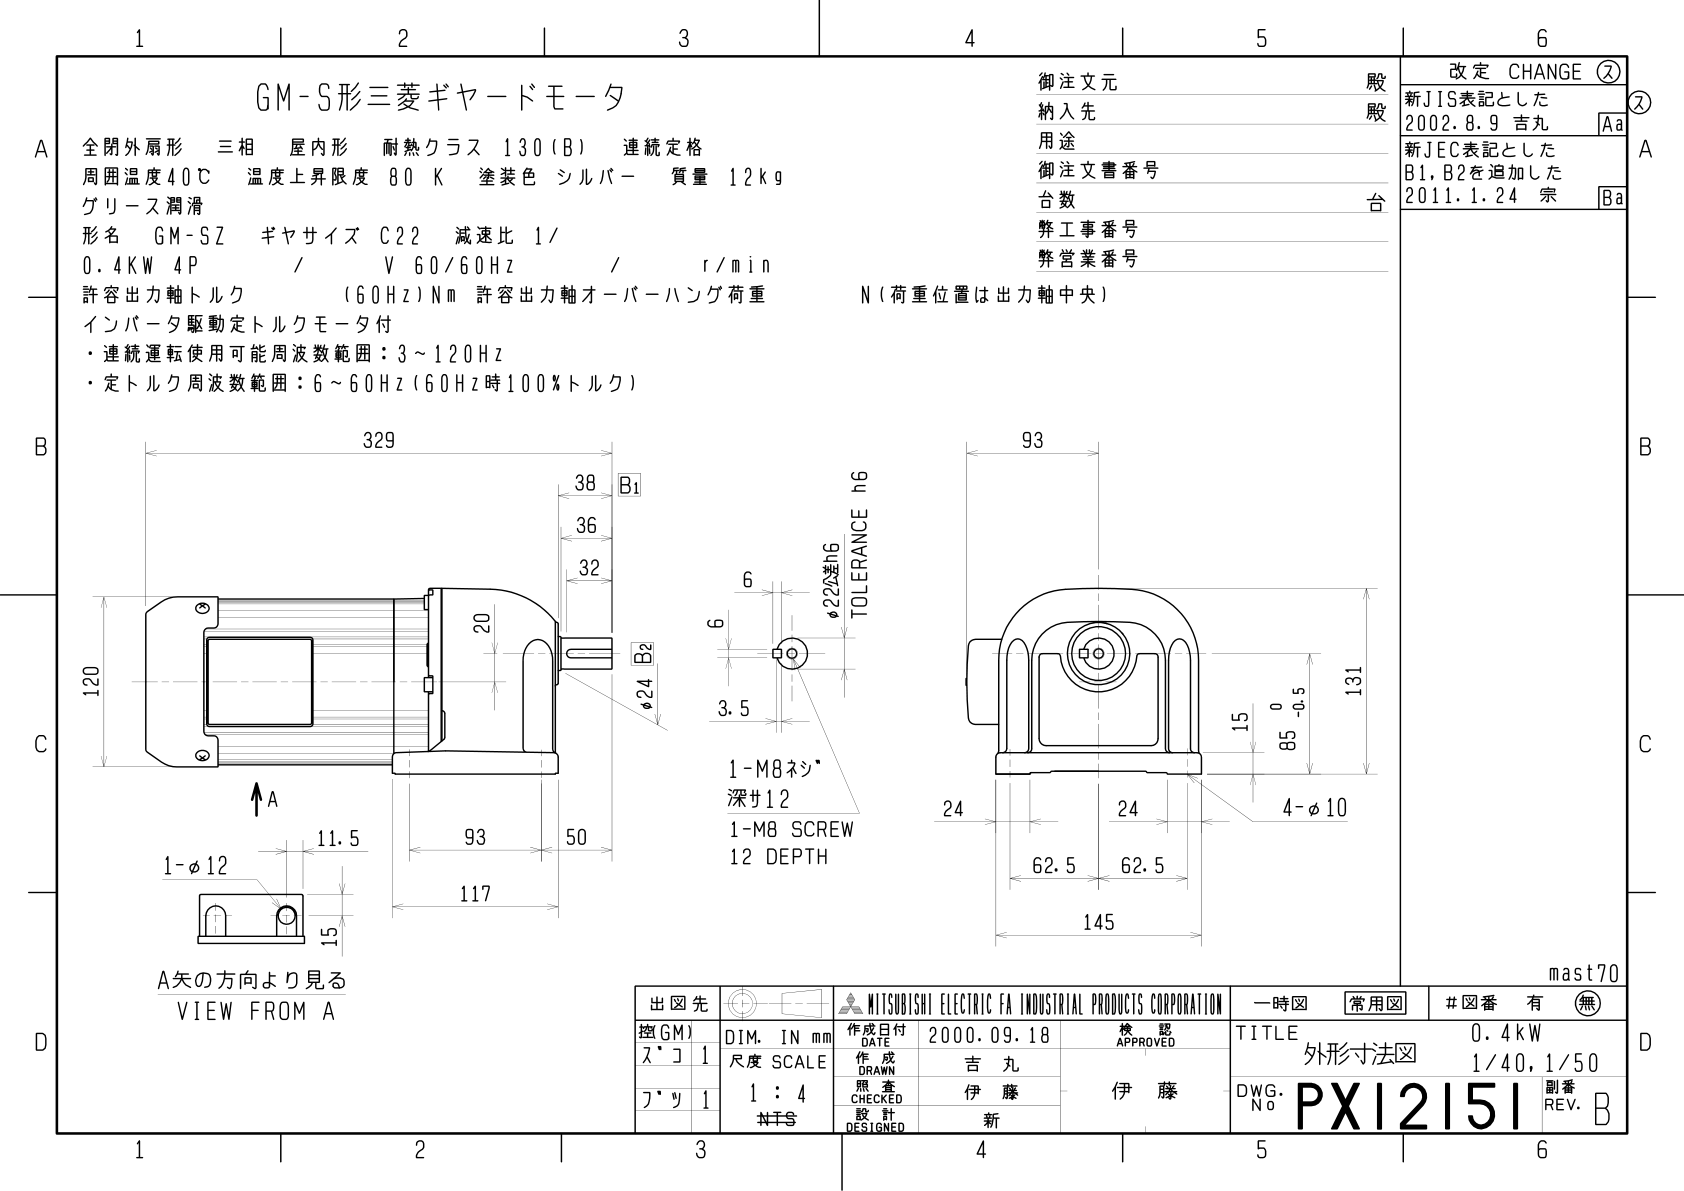GM_S_インバタ屋外＿三相_脚: (70, 418, 1397, 956)
